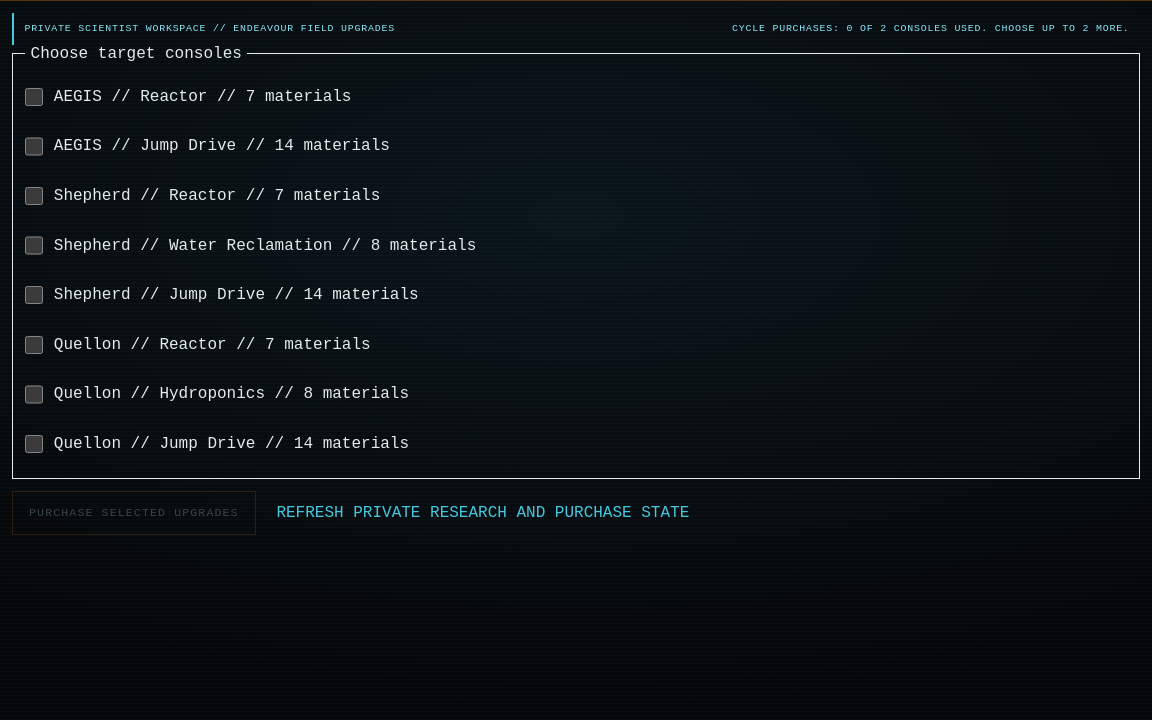
Test case: limits an unfuelled cycle to two selected consoles and submits only the checked targets
What coordinates should you click on to do the following:
click the checkbox labelled "Shepherd // Reactor // 7 materials"
I would click on:
 (34, 196)
Its box is [25,187,43,205].
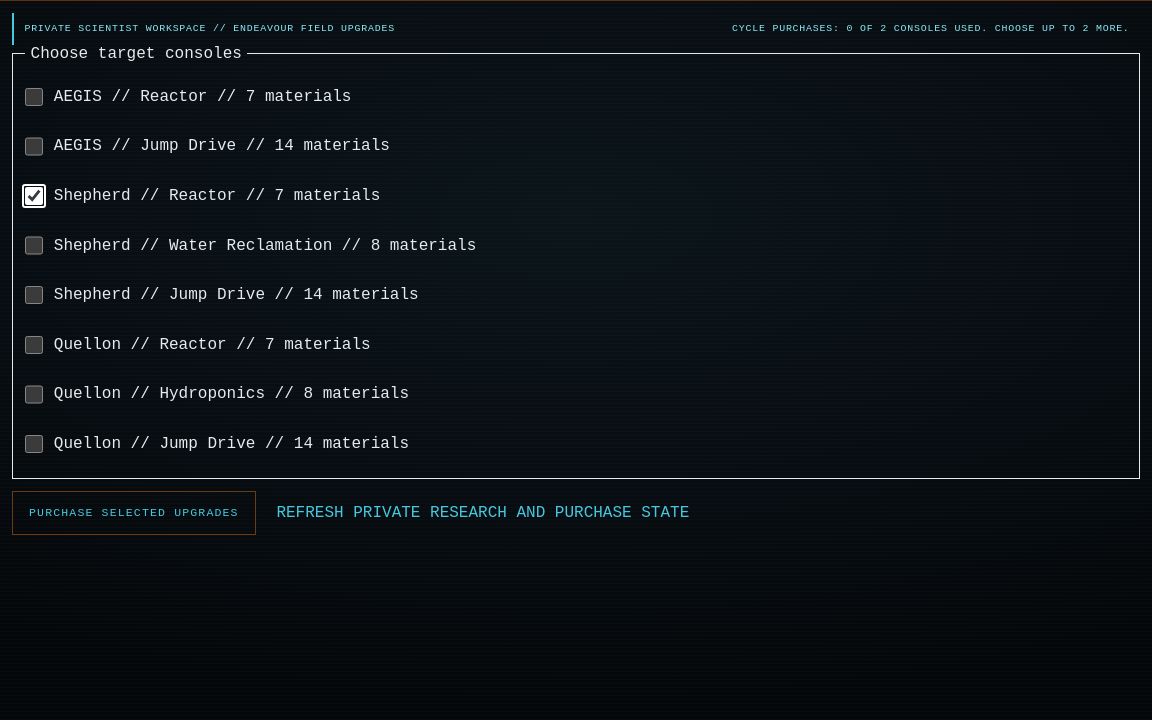
What coordinates should you click on to do the following:
click the checkbox labelled "Shepherd // Water Reclamation // 8 materials"
I would click on:
 (34, 246)
Its box is [25,236,43,255].
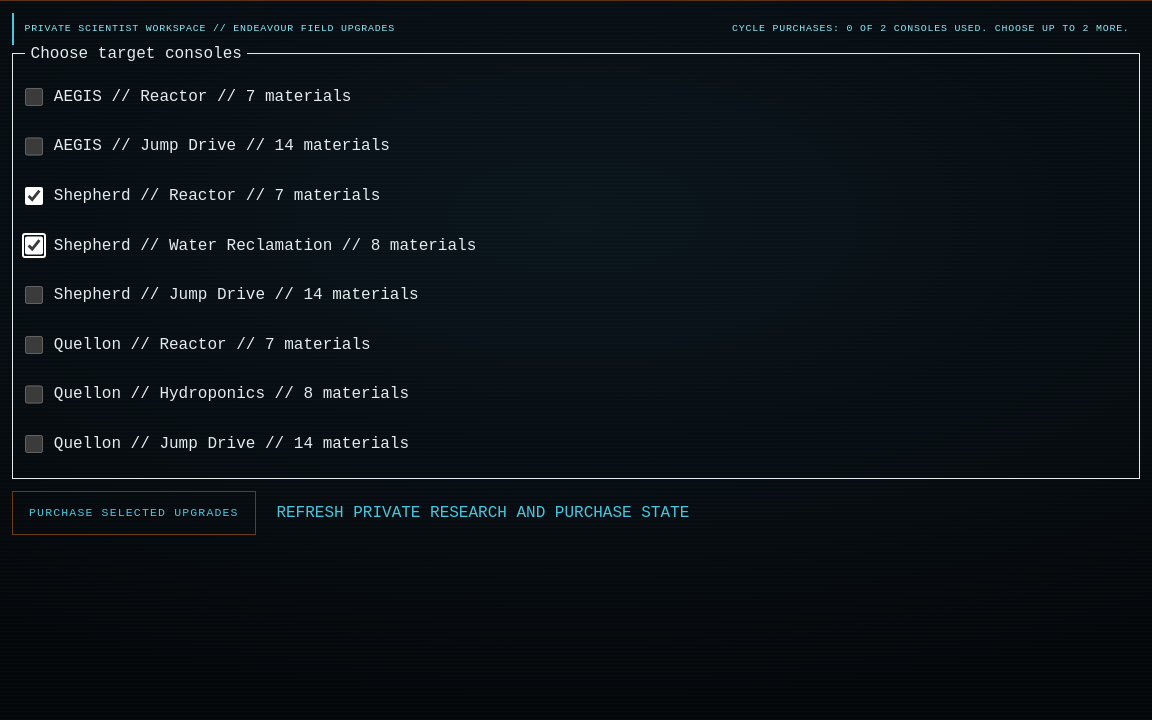
Check: the checkbox labelled "Shepherd // Jump Drive // 14 materials" is disabled, box [25,286,43,304]
What coordinates should you click on to do the following:
click the button "Purchase selected upgrades"
I would click on:
 (134, 513)
Its box is [12,491,256,535].
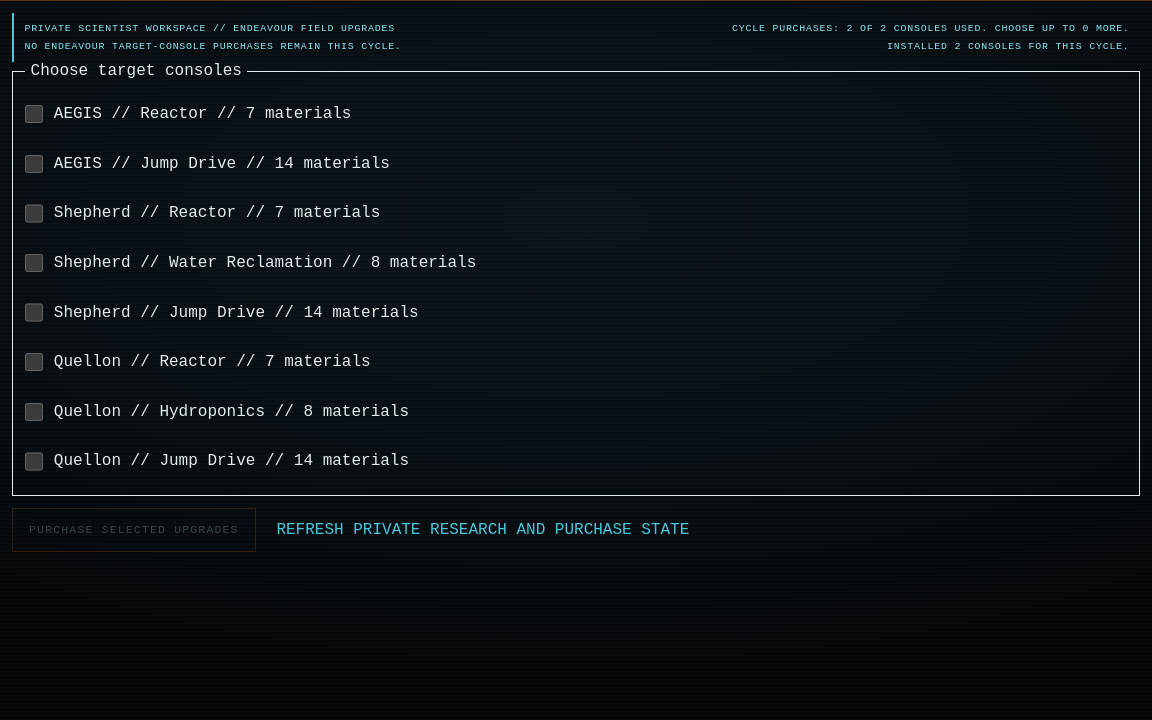
Check: the message reads "Installed 2 consoles for this cycle.", box [887,41,1130,52]
